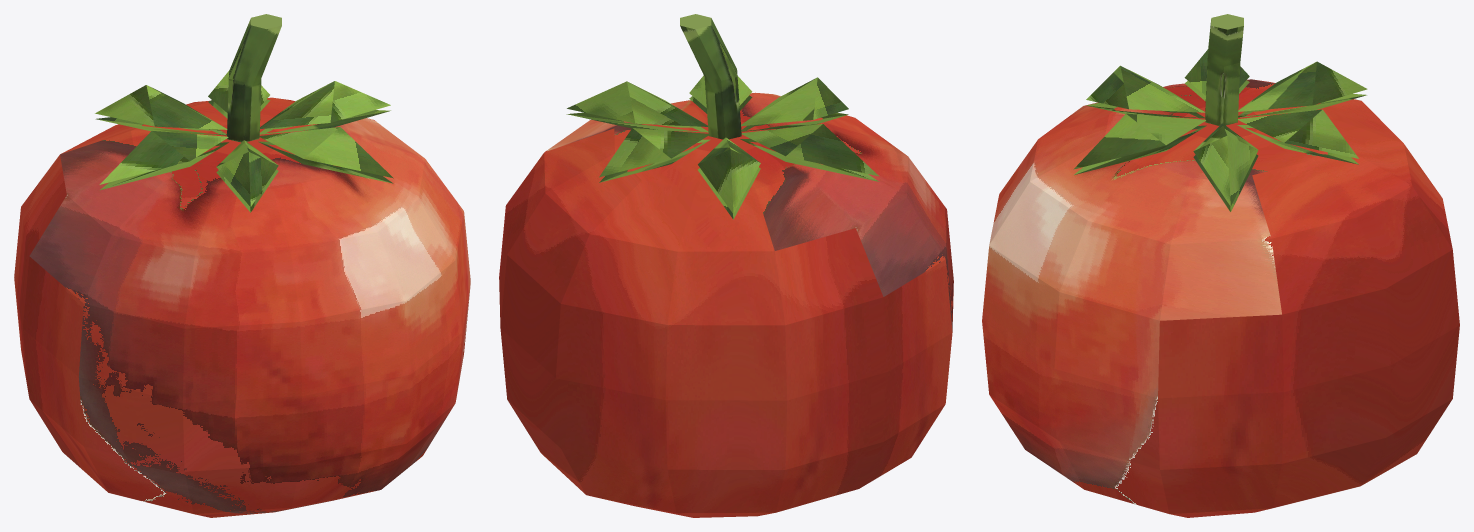
The model's file is tomato.glb.
The picture shows the model from 3 angles, left to right: view 1: azimuth 30°, elevation 25°; view 2: azimuth 150°, elevation 25°; view 3: azimuth 270°, elevation 25°; orthographic projection. The views are drawn at different scales.
Visible parts, largest first — view 1: Low Poly Tomato; view 2: Low Poly Tomato; view 3: Low Poly Tomato.
Boxes of the visible parts, bbox=[...] form: Low Poly Tomato: bbox=[14, 14, 470, 517]; Low Poly Tomato: bbox=[499, 14, 953, 517]; Low Poly Tomato: bbox=[982, 14, 1459, 517].
Size of the model in its own units: 1.95 by 2.12 by 1.97.
1 material, 1 textured.
